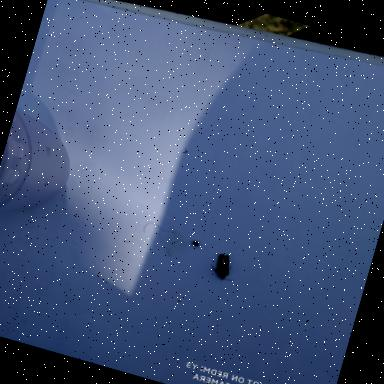pbw: (208, 248, 238, 282)
